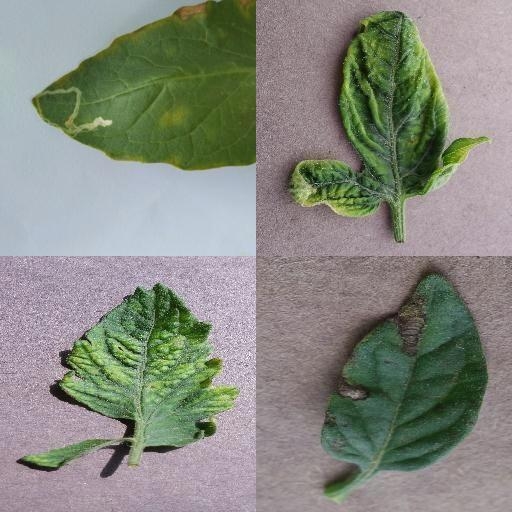Early Blight: (320, 270, 489, 474)
Leaf Miner: (28, 0, 256, 171)
Mosaic Virus: (58, 281, 240, 449), (19, 437, 117, 469)
Yellow Leaf Curl Virus: (289, 8, 489, 220)
